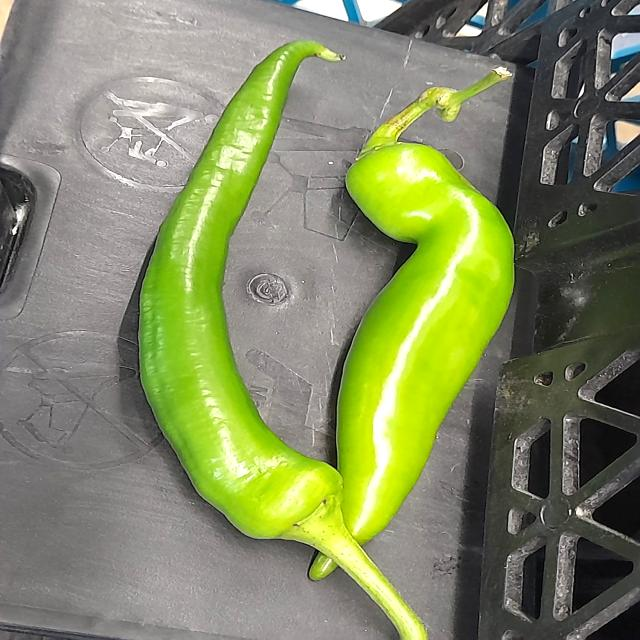green pepper: (112, 27, 439, 640), (306, 74, 538, 570)
